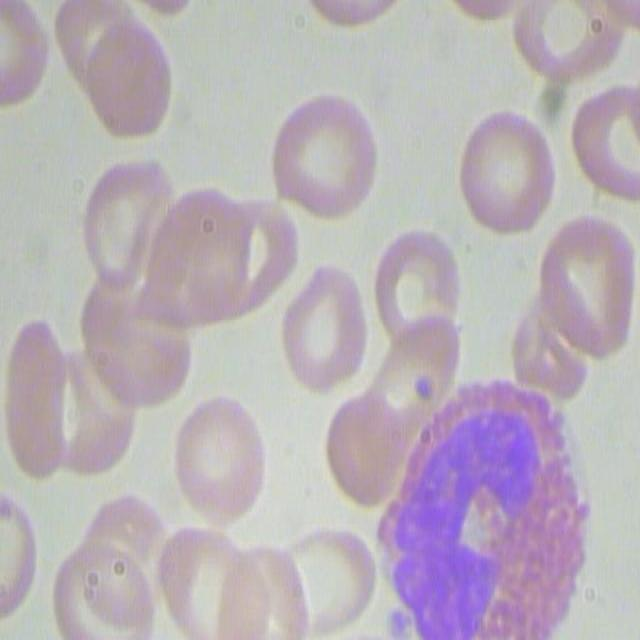RBC: (150, 184, 298, 338), (0, 317, 129, 481), (57, 486, 176, 638), (531, 205, 638, 362), (78, 270, 192, 414), (270, 84, 382, 228), (77, 151, 172, 290), (459, 106, 557, 240), (70, 11, 174, 137), (172, 396, 268, 528), (372, 222, 465, 351), (156, 522, 258, 637), (280, 265, 366, 399), (280, 522, 378, 636), (324, 388, 413, 510), (509, 1, 621, 89), (373, 316, 459, 428), (567, 84, 640, 207), (224, 539, 314, 638), (0, 1, 49, 113), (0, 491, 36, 619), (297, 0, 410, 32)
WBC: (377, 382, 582, 640)
